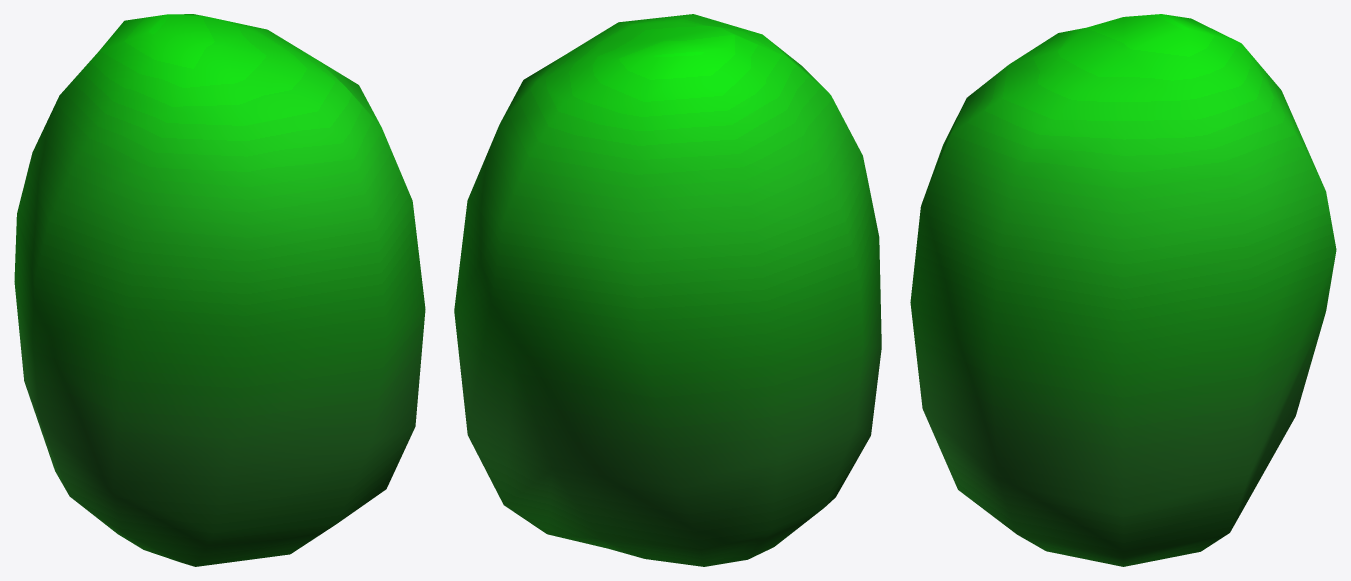
File: SM_Bush_03.fbx
3 views of the same model, side by side, from view 1: azimuth 30°, elevation 25°; view 2: azimuth 150°, elevation 25°; view 3: azimuth 270°, elevation 25° (orthographic). The views are drawn at different scales.
Parts seen in each view (by area): view 1: SM_Bush_03; view 2: SM_Bush_03; view 3: SM_Bush_03.
Part boxes in pixels (x1=…): SM_Bush_03: x1=14, y1=14, x2=425, y2=566; SM_Bush_03: x1=454, y1=14, x2=881, y2=566; SM_Bush_03: x1=910, y1=14, x2=1336, y2=566.
Size of the model in its own units: 372 by 476 by 371.
1 material, 1 textured.
